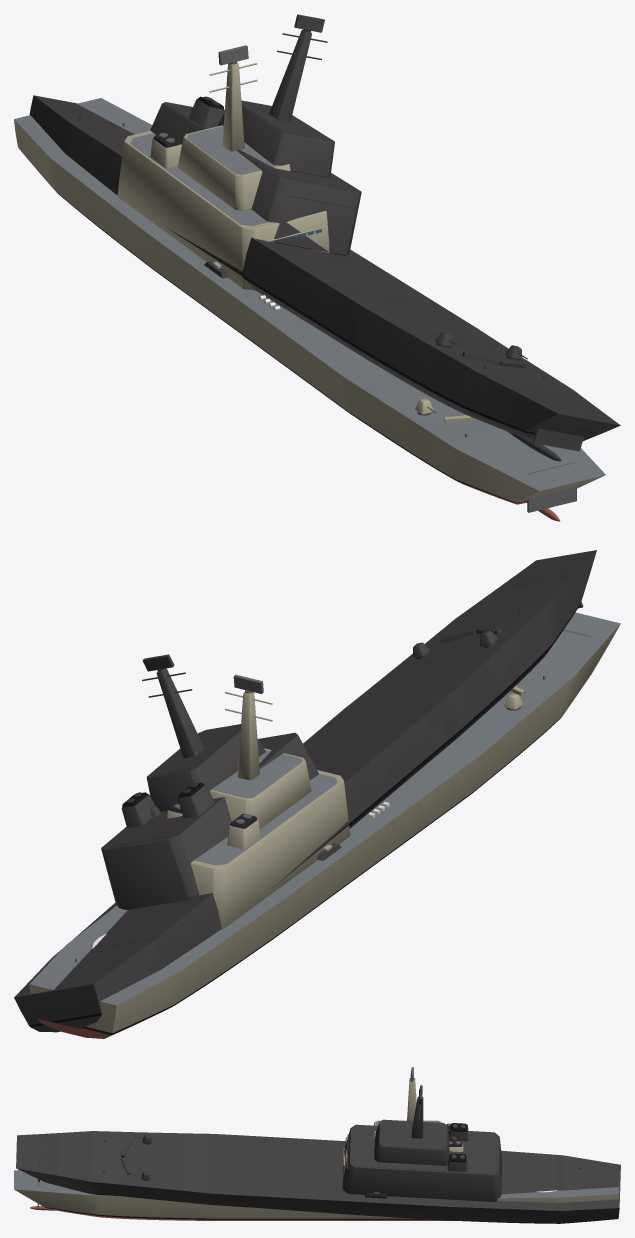
The model's file is landingShip__bayraktar_class.glb.
3 views of the same model, one above another, from view 1: azimuth 30°, elevation 25°; view 2: azimuth 150°, elevation 25°; view 3: azimuth 270°, elevation 25° (orthographic). The views are drawn at different scales.
Parts seen in each view (by area): view 1: Hull_Mesh, Wreck; view 2: Wreck, Hull_Mesh; view 3: Wreck, Hull_Mesh.
Part boxes in pixels (left/top/right/bottom): Hull_Mesh: left=14, top=63, right=605, bottom=521; Wreck: left=29, top=14, right=620, bottom=461; Wreck: left=14, top=550, right=596, bottom=1032; Hull_Mesh: left=29, top=612, right=620, bottom=1038; Wreck: left=16, top=1085, right=620, bottom=1223; Hull_Mesh: left=14, top=1078, right=618, bottom=1220.
Size of what is drawn, in the model's own units: 26.04 by 38.65 by 145.
